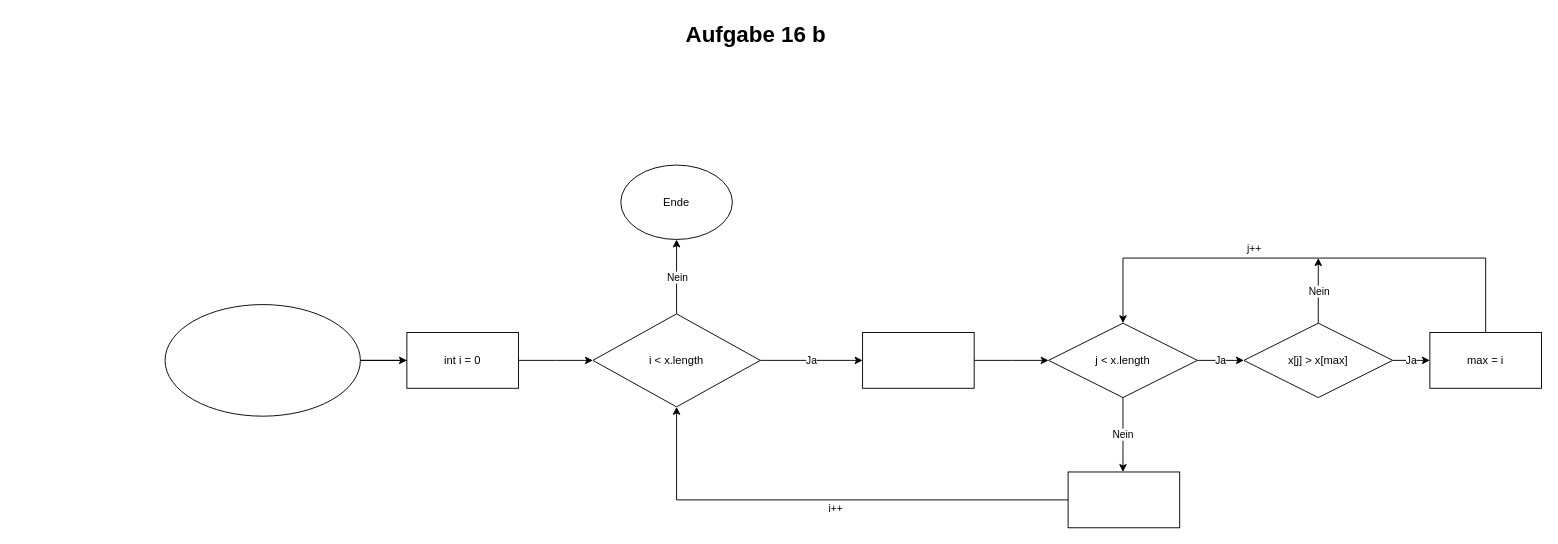
Image size: 1558x544. Some labels were removed from this diagram. The box of each missing label's shape, as (x1, y1, x2, y2) in pixels:
double help = x[max] x[max] = x[i] x[i] = help: (1067, 471, 1180, 528)
int max = i int j = i + 1: (862, 332, 974, 388)
SelectionSort(double[] x): (164, 304, 360, 416)
